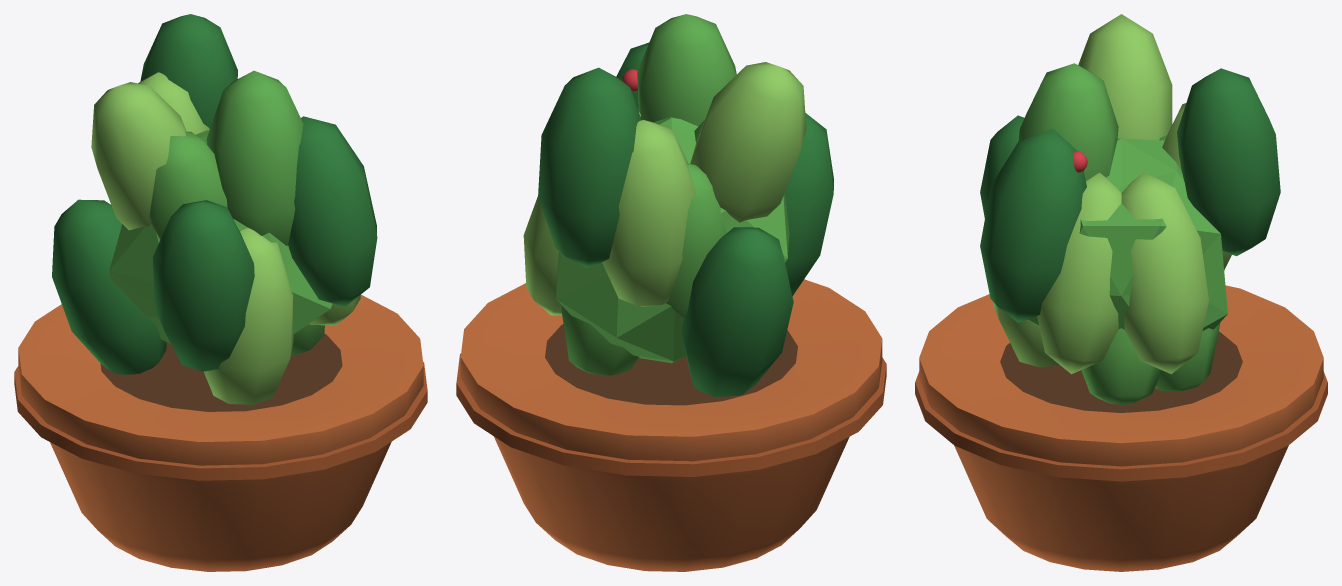
The model's file is big_plant_pot.glb.
3 renders of one model, left to right at view 1: azimuth 30°, elevation 25°; view 2: azimuth 150°, elevation 25°; view 3: azimuth 270°, elevation 25°, orthographic. The views are drawn at different scales.
Visible parts, largest first — view 1: root; view 2: root; view 3: root.
Part boxes in pixels (bbox=[...]): root: bbox=[14, 14, 427, 571]; root: bbox=[456, 14, 886, 571]; root: bbox=[915, 14, 1327, 571].
Size of the model in its own units: 1.84 by 2.27 by 1.84.
